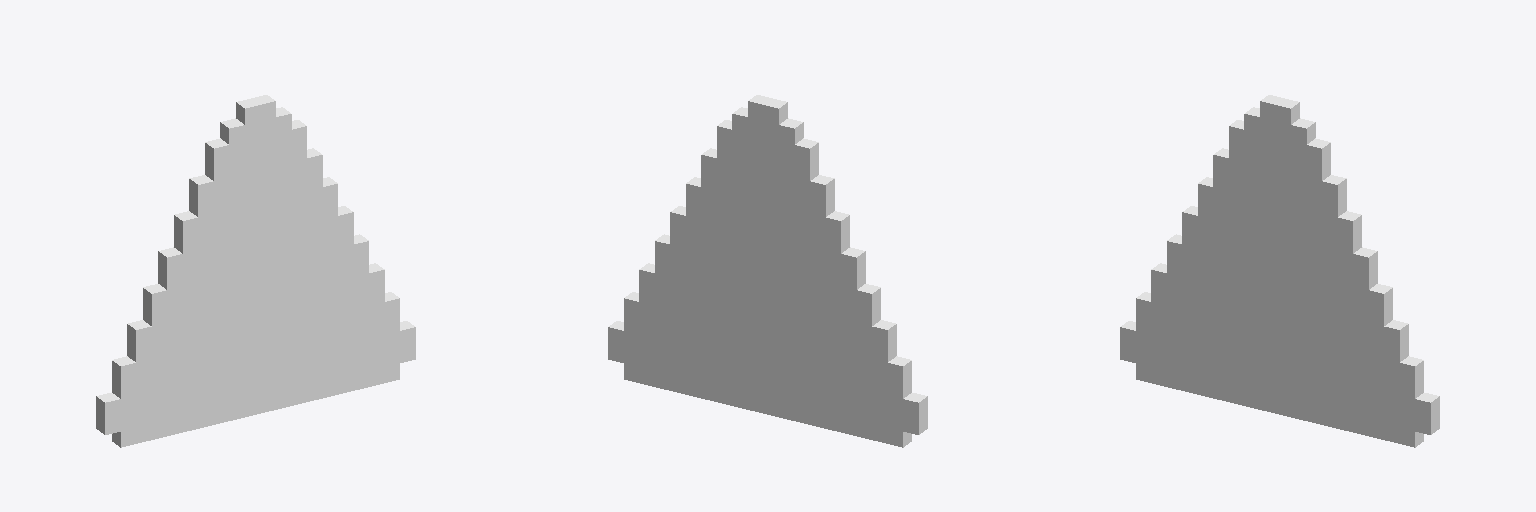
Rendered from alerta.obj.
3 renders of one model, left to right at view 1: azimuth 30°, elevation 25°; view 2: azimuth 150°, elevation 25°; view 3: azimuth 330°, elevation 25°, orthographic.
Visible parts, largest first — view 1: object 1; view 2: object 1; view 3: object 1.
Boxes of the visible parts, box(x1,y1,x2,y2) form: object 1: box(96, 95, 415, 447); object 1: box(608, 95, 927, 447); object 1: box(1120, 95, 1439, 447).
Bounding box in the file's own units: 2 × 1.9 × 0.1.